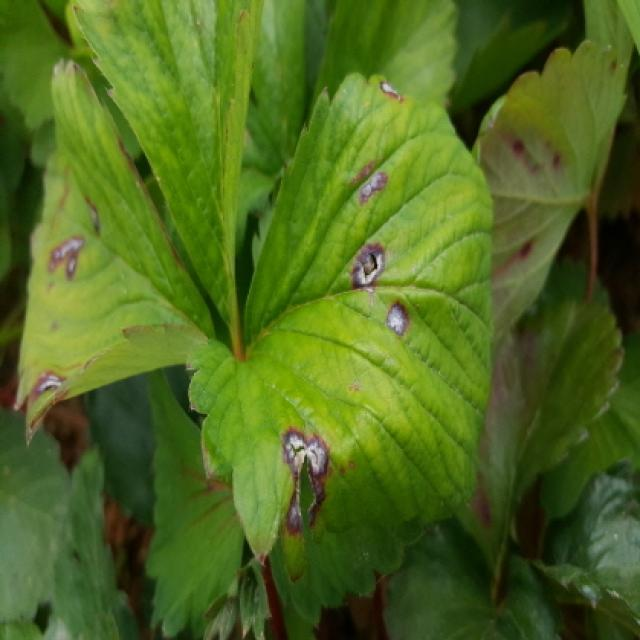Leaf Spot: (184, 71, 495, 584), (14, 57, 218, 446), (468, 38, 631, 351)
